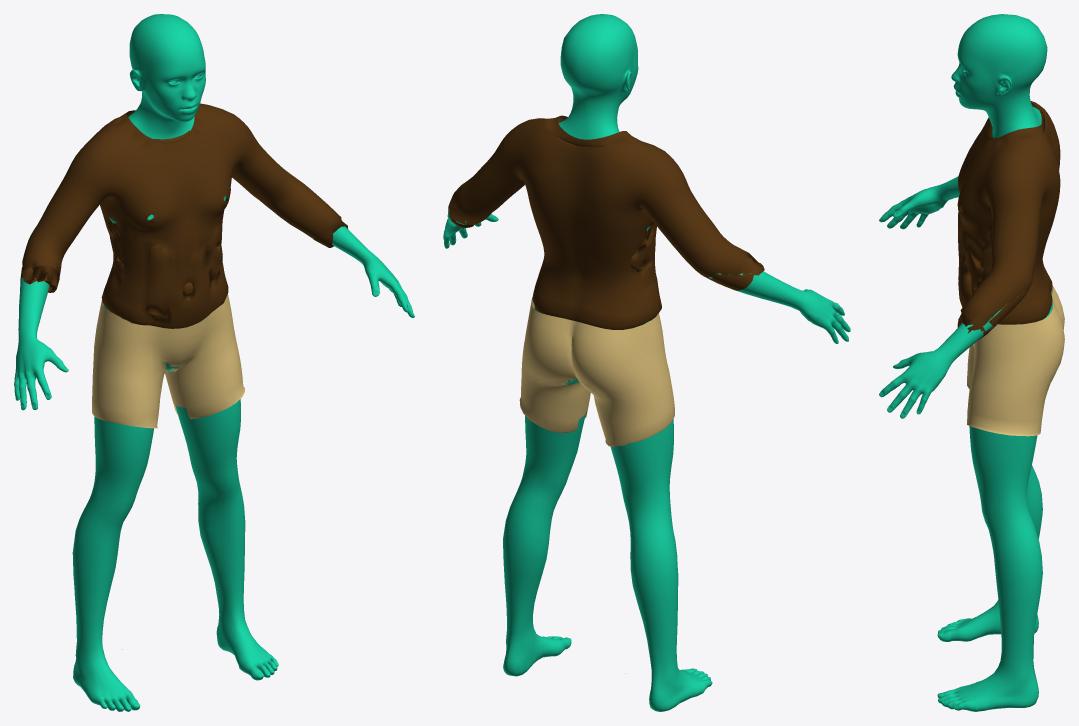
Rendered from HopeThisWorks.fbx.
The picture shows the model from 3 angles, left to right: view 1: azimuth 30°, elevation 25°; view 2: azimuth 150°, elevation 25°; view 3: azimuth 270°, elevation 25°; orthographic projection.
Parts seen in each view (by area): view 1: basicbody-base; view 2: basicbody-base; view 3: basicbody-base.
Part boxes in pixels (x1=…): basicbody-base: x1=14, y1=14, x2=414, y2=711; basicbody-base: x1=443, y1=14, x2=850, y2=711; basicbody-base: x1=879, y1=14, x2=1064, y2=711.
Size of the model in its own units: 1933 by 3089 by 796.
